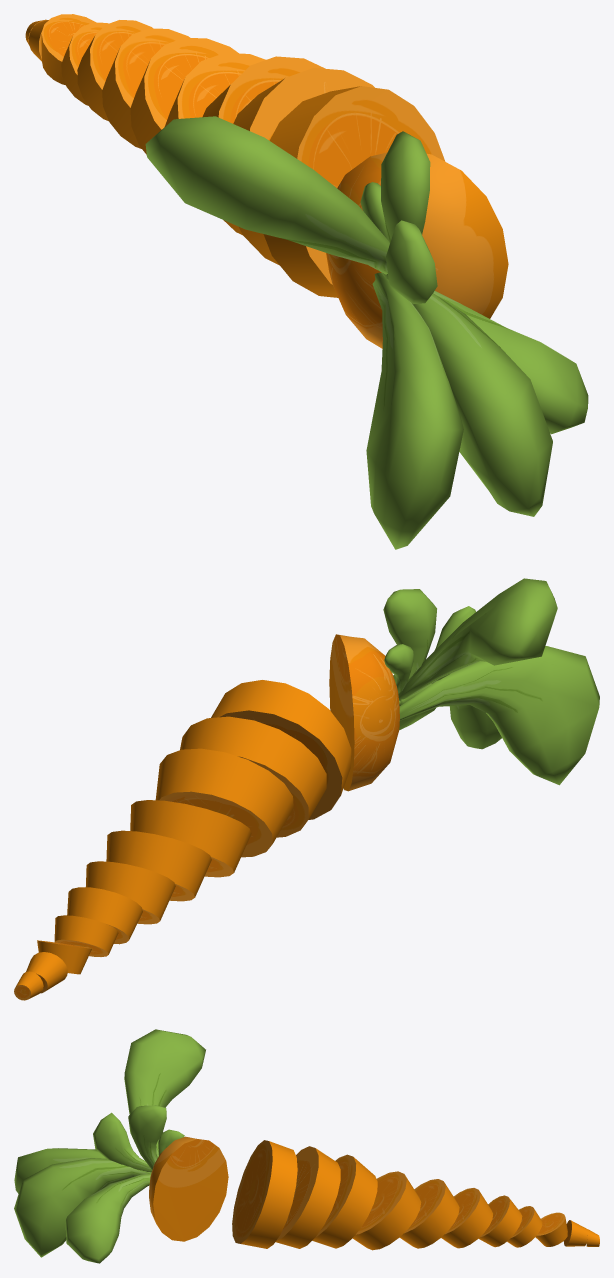
Rendered from carrot-cut.FBX.
3 views of the same model, one above another, from view 1: azimuth 30°, elevation 25°; view 2: azimuth 150°, elevation 25°; view 3: azimuth 270°, elevation 25° (orthographic). The views are drawn at different scales.
Parts seen in each view (by area): view 1: Carrot Leaf006, Carrot Leaf002, Carrot Leaf001, Carrot Chunk012, Carrot Chunk011, Carrot Leaf, Carrot Chunk003, Carrot Chunk, Carrot Leaf004, Carrot Chunk004, Carrot Leaf003, Carrot Chunk002 (+5 smaller); view 2: Carrot Leaf002, Carrot Chunk001, Carrot Leaf006, Carrot Chunk012, Carrot Chunk011, Carrot Chunk, Carrot Chunk002, Carrot Chunk003, Carrot Chunk004, Carrot Leaf004, Carrot Chunk005, Carrot Chunk006 (+6 smaller); view 3: Carrot Chunk012, Carrot Leaf001, Carrot Chunk011, Carrot Leaf006, Carrot Chunk, Carrot Leaf, Carrot Chunk001, Carrot Chunk002, Carrot Chunk003, Carrot Chunk004, Carrot Leaf003, Carrot Leaf004 (+6 smaller).
Boxes of the visible parts, x1,y1,x2,y2 form: Carrot Leaf006: [145, 116, 389, 274]; Carrot Leaf002: [366, 272, 463, 549]; Carrot Leaf001: [381, 272, 552, 516]; Carrot Chunk012: [326, 152, 508, 348]; Carrot Chunk011: [263, 86, 445, 297]; Carrot Leaf: [433, 291, 588, 434]; Carrot Chunk003: [130, 37, 238, 154]; Carrot Chunk: [233, 68, 374, 265]; Carrot Leaf004: [381, 131, 430, 242]; Carrot Chunk004: [102, 28, 190, 148]; Carrot Leaf003: [386, 220, 437, 304]; Carrot Chunk002: [164, 53, 265, 126]; Carrot Leaf002: [399, 646, 599, 785]; Carrot Chunk001: [155, 748, 293, 857]; Carrot Leaf006: [398, 578, 557, 701]; Carrot Chunk012: [329, 634, 399, 791]; Carrot Chunk011: [211, 680, 351, 819]; Carrot Chunk: [180, 716, 326, 837]; Carrot Chunk002: [130, 800, 251, 877]; Carrot Chunk003: [106, 830, 211, 901]; Carrot Chunk004: [86, 861, 175, 924]; Carrot Leaf004: [383, 589, 436, 679]; Carrot Chunk005: [67, 887, 142, 944]; Carrot Chunk006: [54, 915, 118, 956]; Carrot Chunk012: [149, 1136, 228, 1241]; Carrot Leaf001: [14, 1158, 151, 1257]; Carrot Chunk011: [232, 1140, 297, 1248]; Carrot Leaf006: [124, 1029, 205, 1157]; Carrot Chunk: [275, 1146, 340, 1248]; Carrot Leaf: [65, 1173, 150, 1263]; Carrot Chunk001: [312, 1154, 377, 1248]; Carrot Chunk002: [352, 1171, 421, 1250]; Carrot Chunk003: [400, 1179, 459, 1248]; Carrot Chunk004: [441, 1188, 492, 1248]; Carrot Leaf003: [93, 1112, 152, 1172]; Carrot Leaf004: [128, 1105, 166, 1169].
Bounding box in the file's own units: 57.61 × 55.06 × 159.
